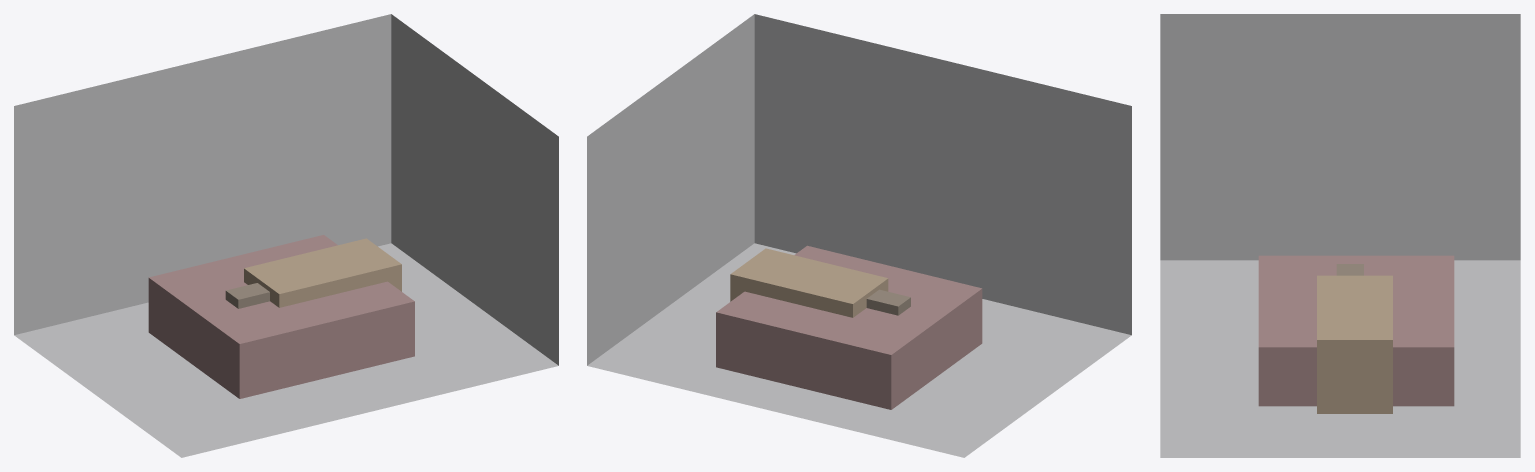
The model's file is optimised_layout.glb.
3 views of the same model, side by side, from view 1: azimuth 30°, elevation 25°; view 2: azimuth 150°, elevation 25°; view 3: azimuth 270°, elevation 25° (orthographic). The views are drawn at different scales.
Parts seen in each view (by area): view 1: room, bed, desk, suitcase; view 2: room, bed, desk, suitcase; view 3: room, bed, desk.
Part boxes in pixels (x1=…): room: x1=14, y1=14, x2=558, y2=457; bed: x1=148, y1=235, x2=414, y2=398; desk: x1=244, y1=238, x2=401, y2=307; suitcase: x1=225, y1=283, x2=269, y2=308; room: x1=587, y1=14, x2=1131, y2=457; bed: x1=716, y1=245, x2=982, y2=409; desk: x1=730, y1=248, x2=888, y2=317; suitcase: x1=866, y1=289, x2=910, y2=315; room: x1=1160, y1=14, x2=1520, y2=457; bed: x1=1258, y1=255, x2=1454, y2=406; desk: x1=1317, y1=275, x2=1392, y2=413.
Size of the model in its own units: 4.31 by 2.5 by 3.31.
